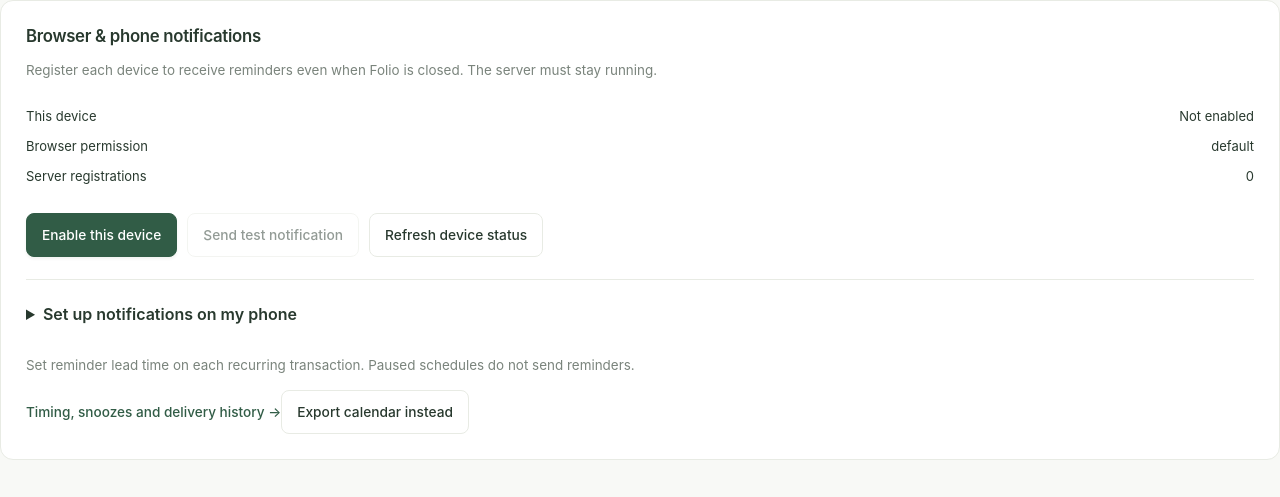
Test: browser and phone setup interactions › never prompts on load, enrolls on click, sends a current-device test and disconnects
The width and height of the screenshot is (1280, 497).
Click the button "Enable this device" at x=102, y=235, box [26,213,177,257]
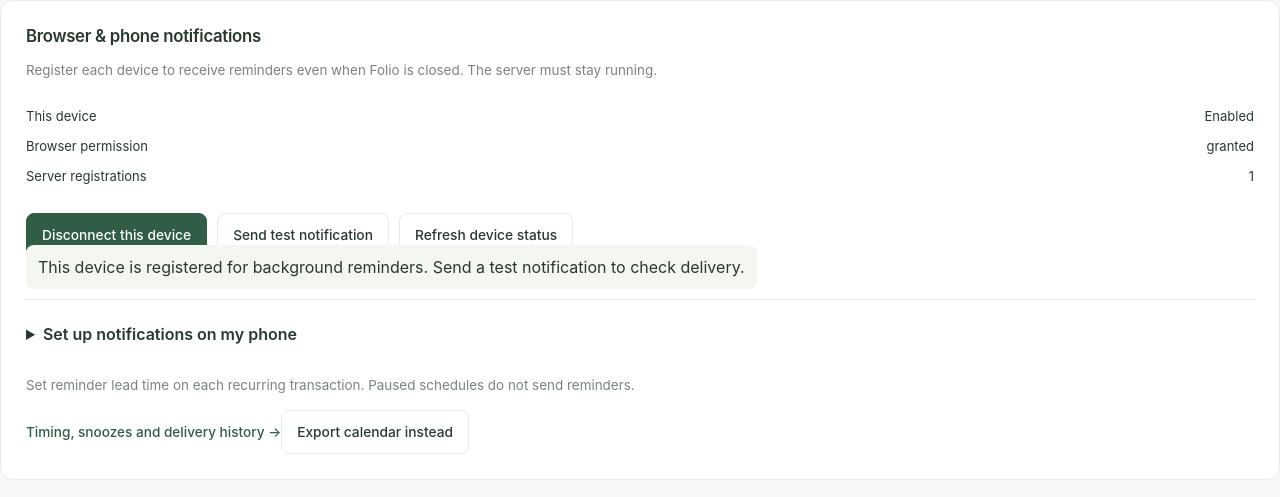
Expected: the button "Disconnect this device" is shown, [26,213,207,257]
Expected: the button "Send test notification" is enabled
Click the button "Send test notification" at x=303, y=235, box [217,213,389,257]
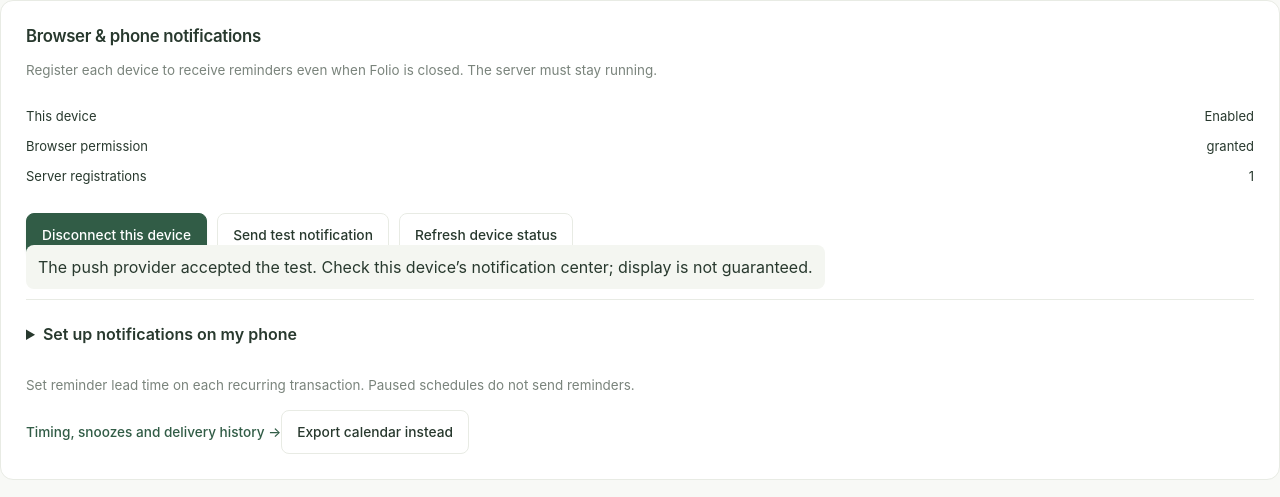
Expected: the text "push provider accepted the test" is shown, [38,257,813,277]
Click the button "Disconnect this device" at x=117, y=235, box [26,213,207,257]
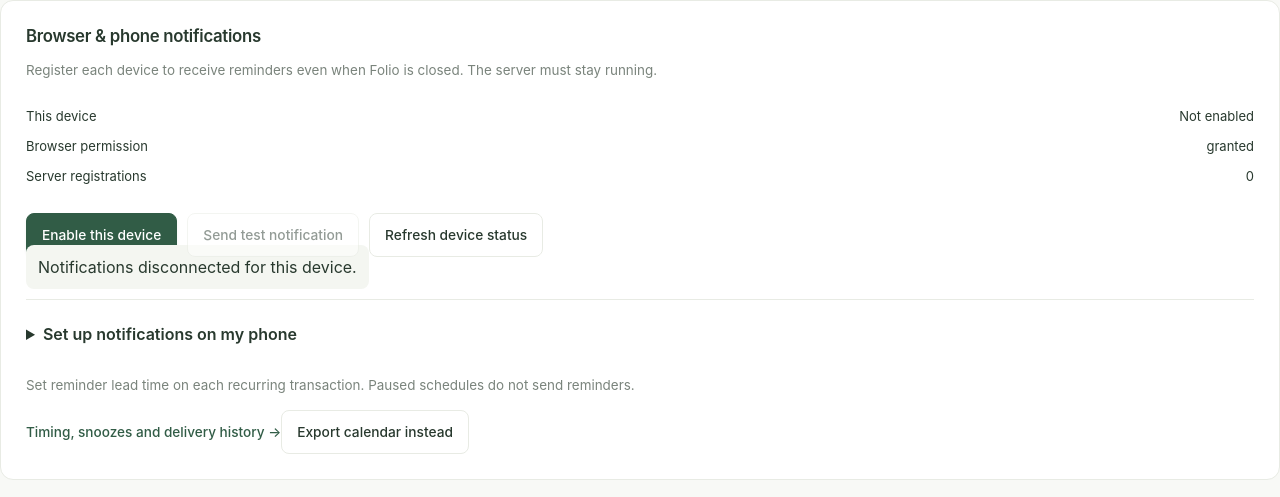
Expected: the button "Enable this device" is shown, [26,213,177,257]
